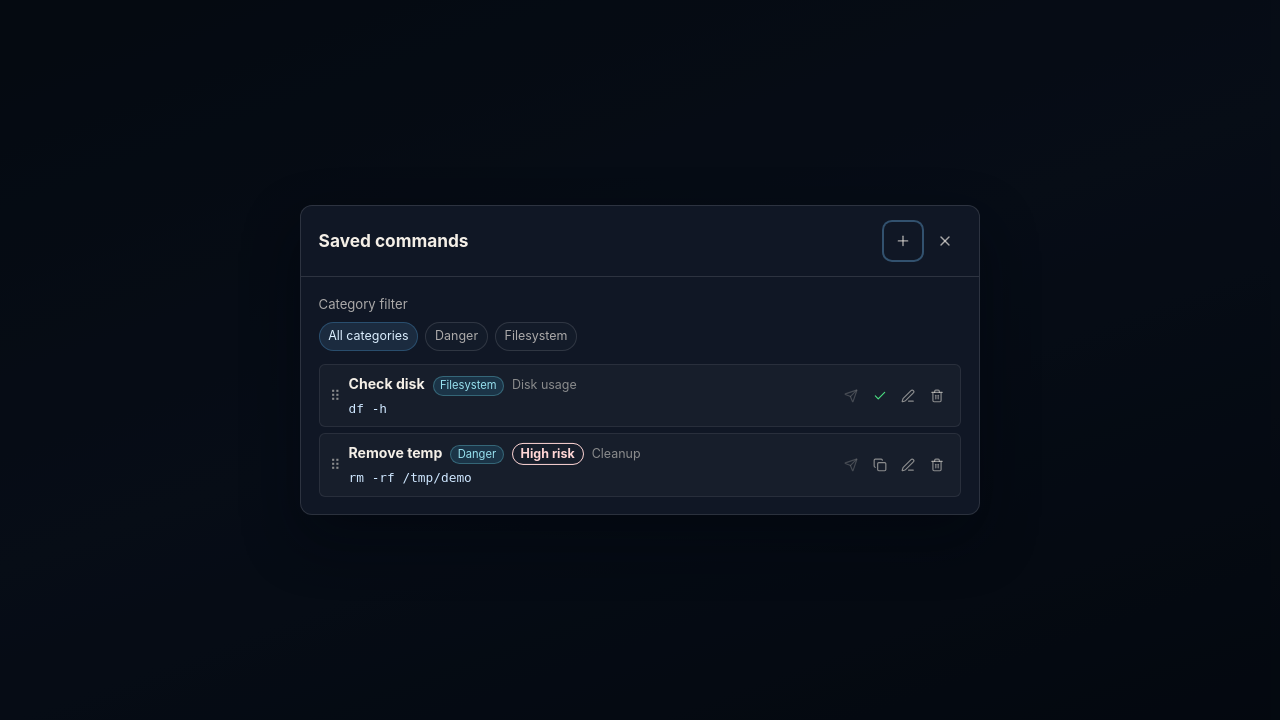
Test case: TerminalSavedCommandsDialog › renders saved commands, filters categories, and delegates row actions
Expected: the text "Check disk" is shown, x1=348 y1=373 x2=425 y2=394
Expected: the text "Remove temp" is shown, x1=348 y1=442 x2=442 y2=463
What coordinates should you click on to do the following:
click the button named "Copy" in the row of "Disk usage"
I would click on:
 (880, 396)
Its box is x1=867 y1=383 x2=892 y2=408.
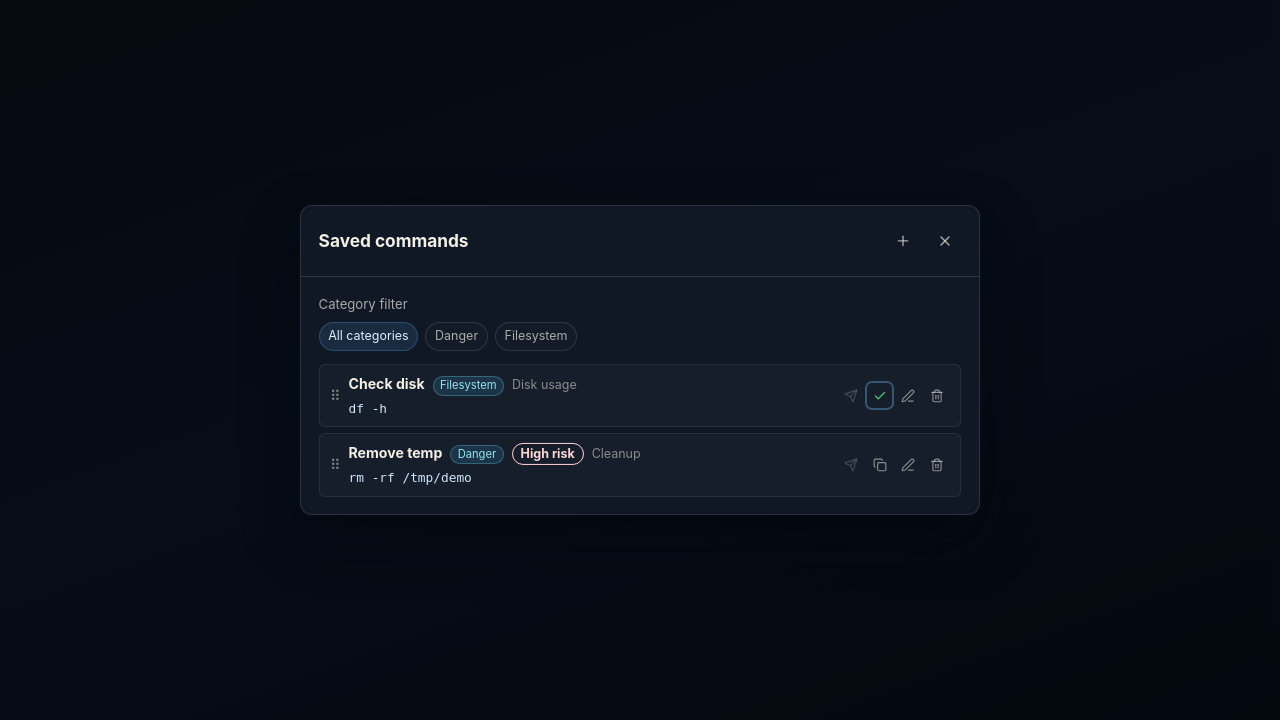
What coordinates should you click on to do the following:
click the button named "Edit" in the row of "Disk usage"
I would click on:
 (908, 396)
Its box is x1=896 y1=383 x2=921 y2=408.
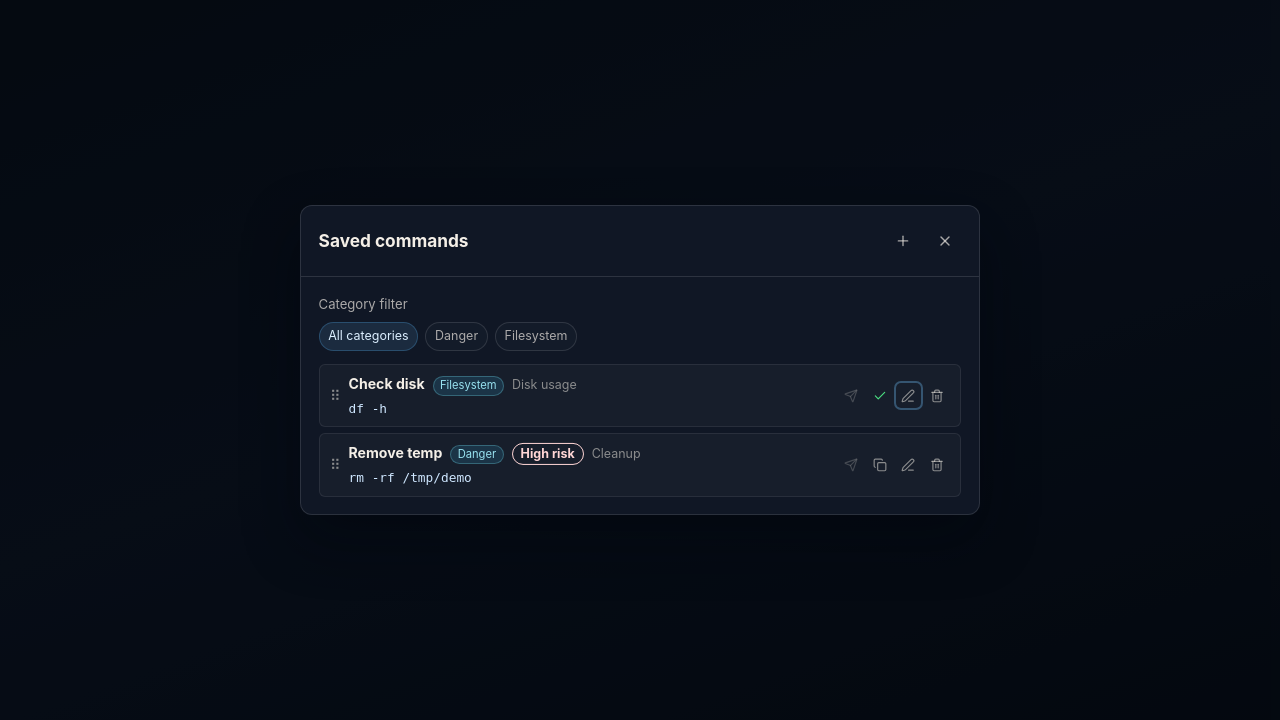
What coordinates should you click on to do the following:
click the button named "Delete" in the row of "Disk usage"
I would click on:
 (937, 396)
Its box is x1=924 y1=383 x2=950 y2=408.
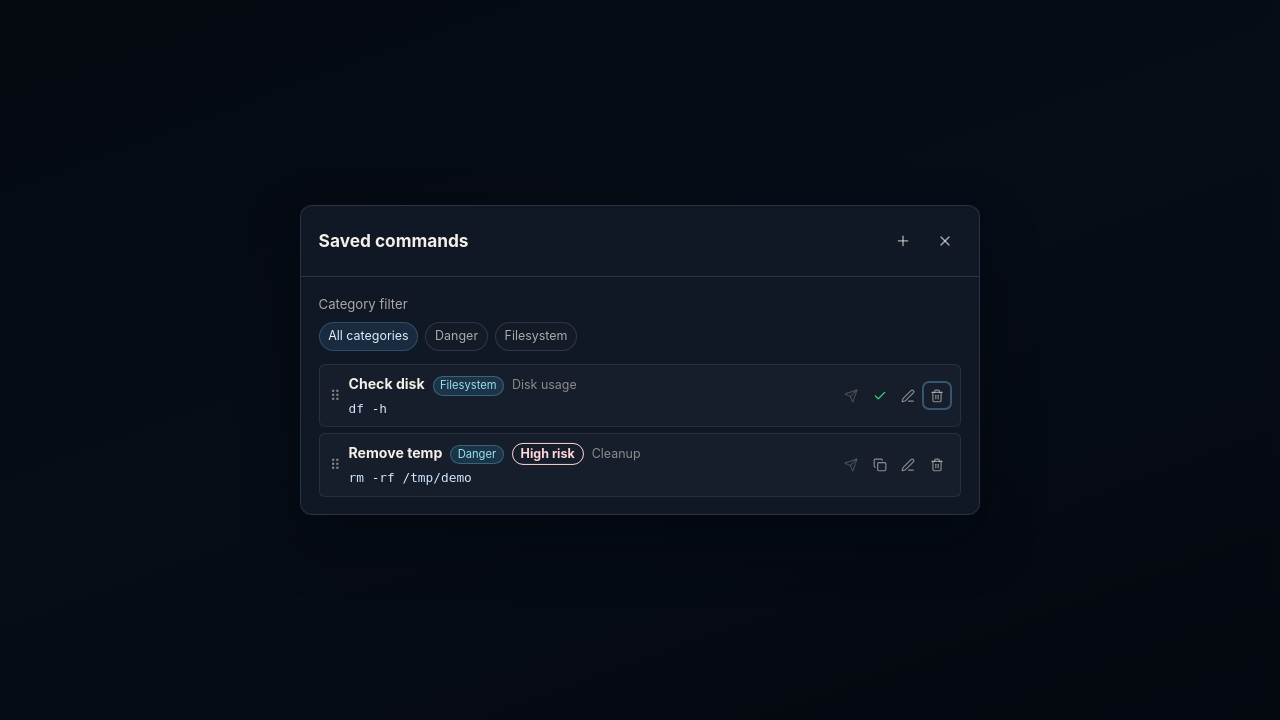
What coordinates should you click on to do the following:
click the button named "Send to active terminal" in the row of "Disk usage"
I would click on:
 (851, 396)
Its box is x1=838 y1=383 x2=864 y2=408.
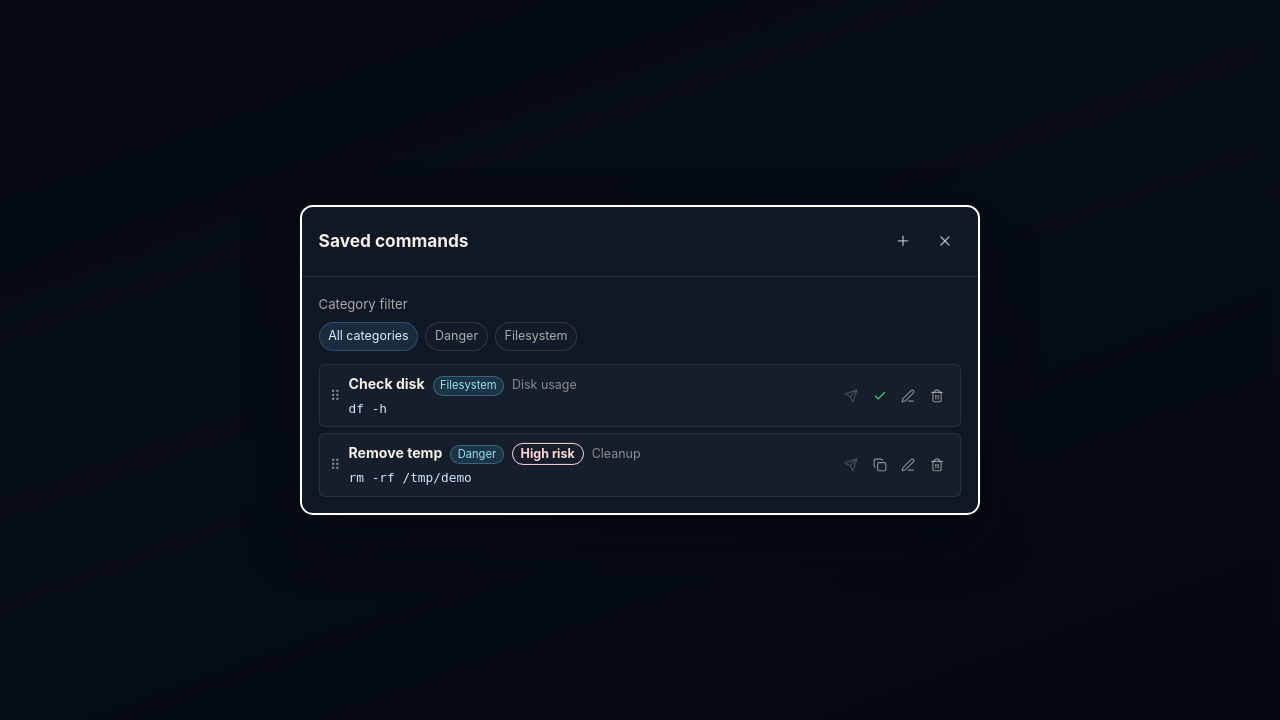
What coordinates should you click on to do the following:
click the button "Filesystem"
I would click on:
 (536, 336)
Its box is x1=495 y1=322 x2=577 y2=351.
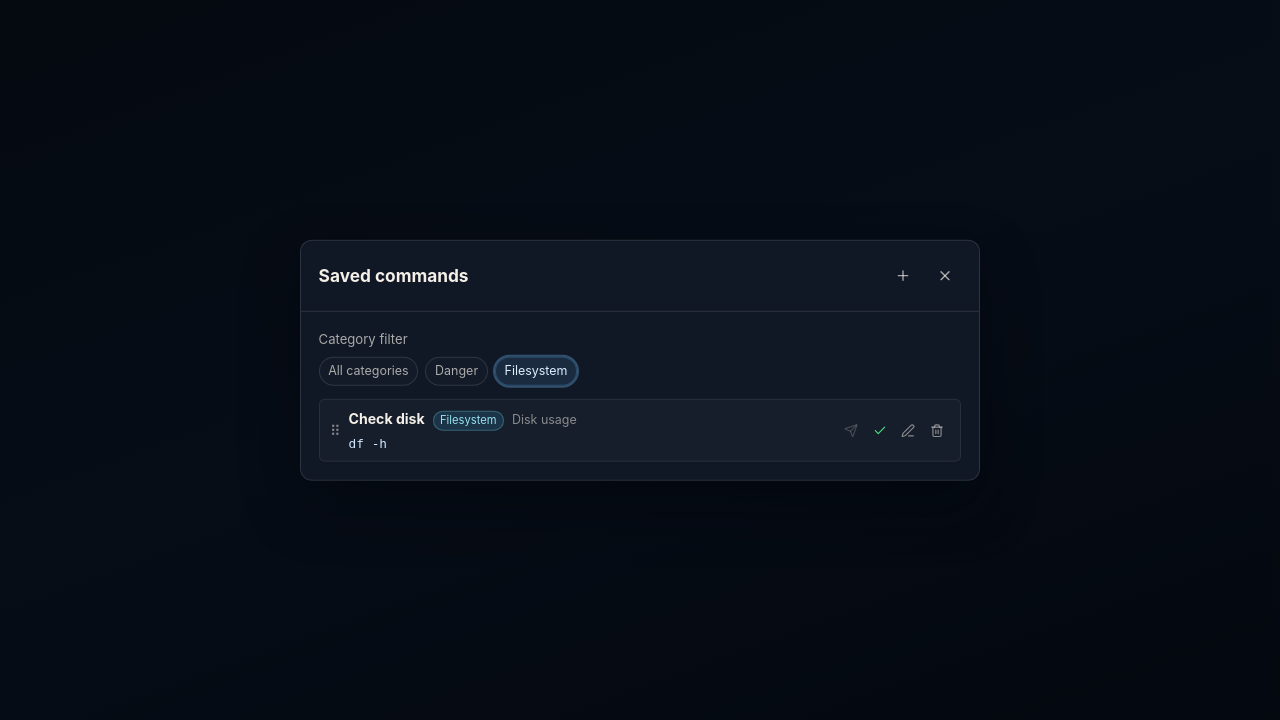
Expected: the text "Check disk" is shown, x1=348 y1=408 x2=425 y2=429
Expected: the text "Remove temp" is gone
